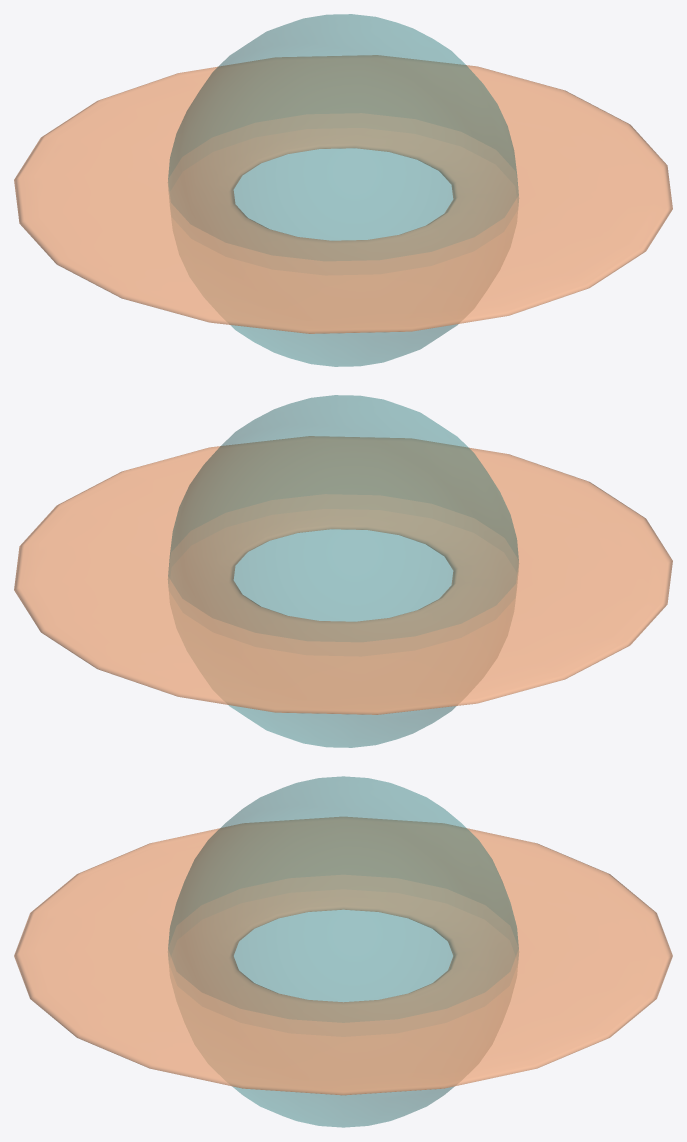
File: planet5.glb
3 views of the same model, one above another, from view 1: azimuth 30°, elevation 25°; view 2: azimuth 150°, elevation 25°; view 3: azimuth 270°, elevation 25° (orthographic).
Visible parts, largest first — view 1: planet1; view 2: planet1; view 3: planet1.
Part boxes in pixels (x1,y1,x2,y2): planet1: [14, 14, 672, 366]; planet1: [14, 395, 672, 747]; planet1: [14, 776, 672, 1127].
Bounding box in the file's own units: 7.5 × 4 × 7.5.
